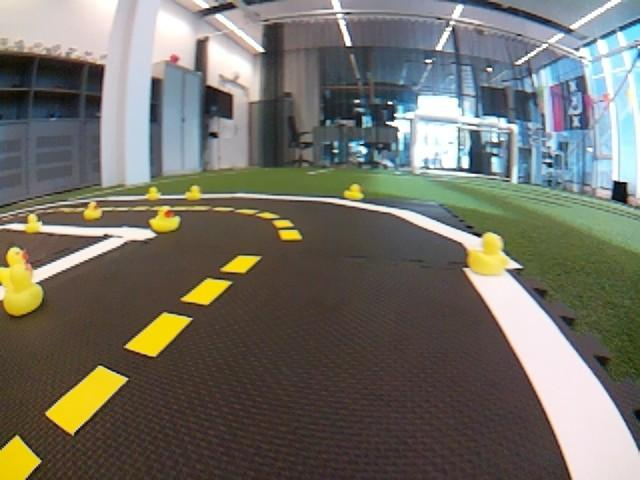Duckies: (0, 264, 43, 318), (467, 233, 511, 275), (0, 248, 32, 285), (148, 206, 181, 233), (23, 214, 43, 232), (343, 183, 364, 200), (83, 202, 102, 219), (186, 184, 201, 200), (147, 187, 160, 200)
